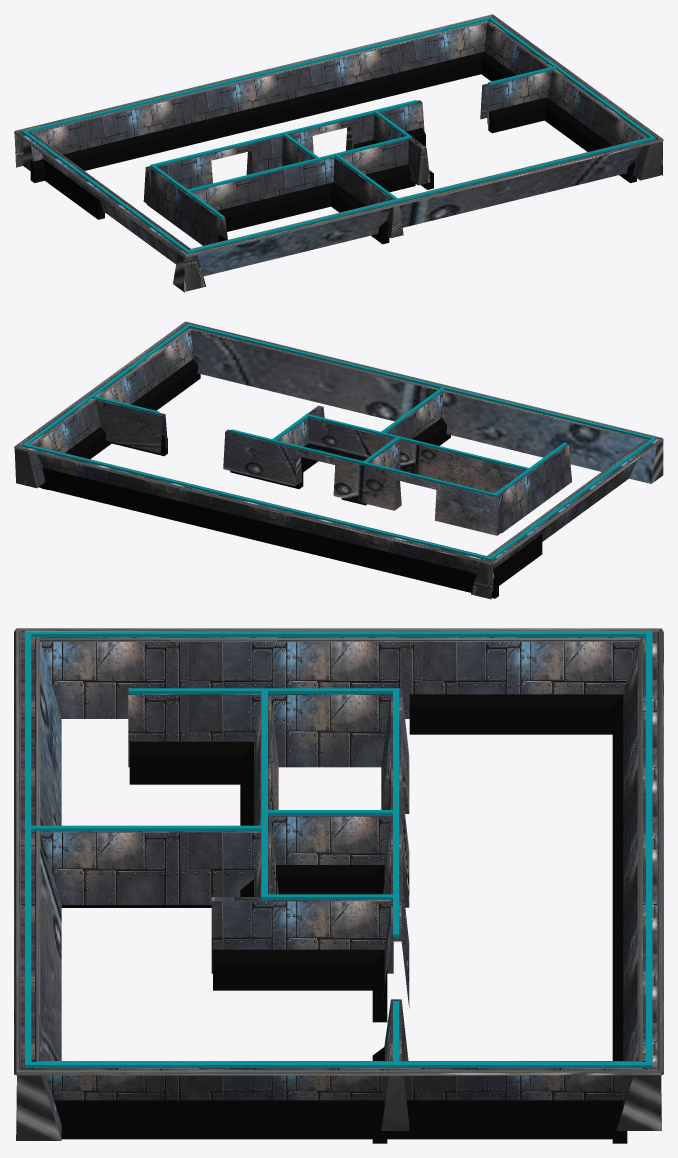
The model's file is Walls.fbx.
The picture shows the model from 3 angles, top to bottom: view 1: azimuth 30°, elevation 25°; view 2: azimuth 150°, elevation 25°; view 3: azimuth 270°, elevation 25°; orthographic projection. The views are drawn at different scales.
Visible parts, largest first — view 1: polySurface4, pCube11, pCube19, pCube31, pCube18, pCube14, polySurface13, polySurface14, pCube25, pCube13, polySurface17, polySurface18 (+3 smaller); view 2: polySurface4, pCube11, pCube19, pCube18, pCube14, polySurface14, polySurface13, polySurface17, pCube13, polySurface18, polySurface12, polySurface15 (+1 smaller); view 3: polySurface4, pCube14, pCube19, pCube13, pCube18, pCube30, pCube32, pCube11, polySurface12, polySurface15, polySurface13, polySurface14 (+9 smaller).
Part boxes in pixels (<box>): polySurface4: <box>14,17,662,292</box>; pCube11: <box>30,52,483,182</box>; pCube19: <box>14,14,663,257</box>; pCube31: <box>217,164,415,231</box>; pCube18: <box>30,20,647,249</box>; pCube14: <box>481,51,636,183</box>; polySurface13: <box>188,137,653,252</box>; polySurface14: <box>23,17,490,132</box>; pCube25: <box>488,97,547,133</box>; pCube13: <box>42,158,104,219</box>; polySurface17: <box>150,100,417,166</box>; polySurface18: <box>188,135,411,191</box>; polySurface4: <box>14,324,663,599</box>; pCube11: <box>39,468,498,598</box>; pCube19: <box>14,321,663,564</box>; pCube18: <box>30,328,647,556</box>; pCube14: <box>41,359,200,489</box>; polySurface14: <box>23,444,489,559</box>; polySurface13: <box>188,324,652,439</box>; polySurface17: <box>230,429,496,496</box>; pCube13: <box>493,534,542,585</box>; polySurface18: <box>306,414,528,470</box>; polySurface12: <box>488,437,656,560</box>; polySurface15: <box>22,324,190,446</box>; polySurface4: <box>16,632,661,1140</box>; pCube14: <box>54,1100,623,1139</box>; pCube19: <box>14,628,663,1076</box>; pCube13: <box>409,694,622,734</box>; pCube18: <box>35,638,642,1061</box>; pCube30: <box>213,949,383,990</box>; pCube32: <box>129,741,253,784</box>; pCube11: <box>612,694,627,1143</box>; polySurface12: <box>25,631,652,637</box>; polySurface15: <box>25,1062,652,1067</box>; polySurface13: <box>25,634,31,1063</box>; polySurface14: <box>646,634,652,1064</box>.
Bounding box in the file's own units: 35.69 × 3.23 × 22.08.
